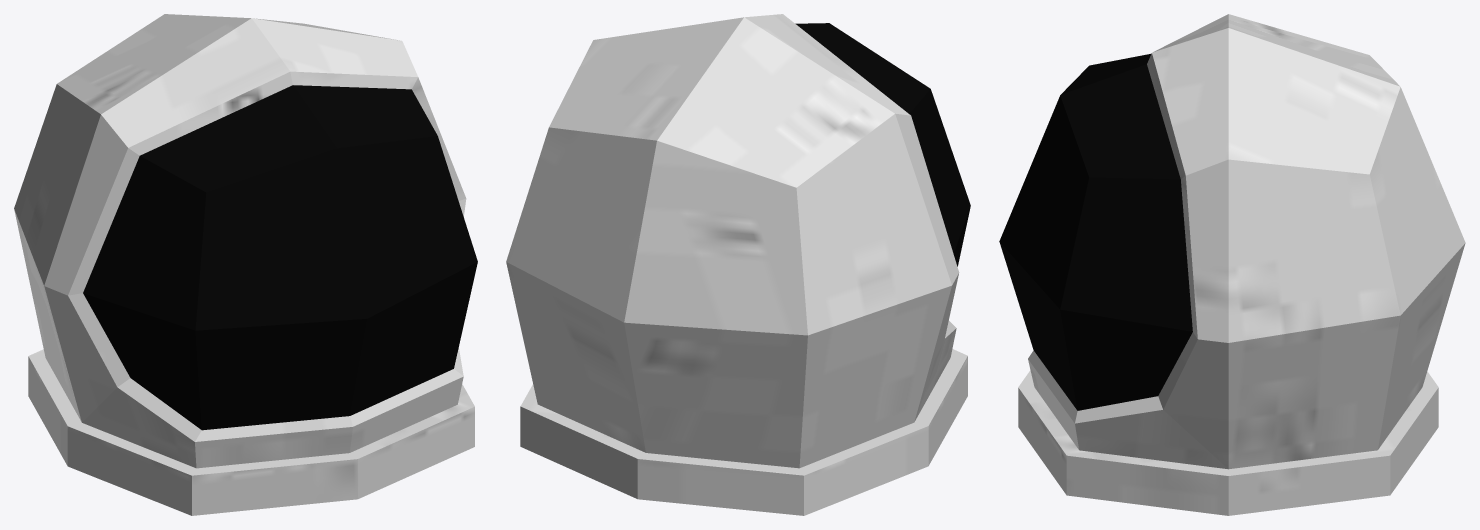
File: MSH_Helmet.fbx
3 views of the same model, side by side, from view 1: azimuth 30°, elevation 25°; view 2: azimuth 150°, elevation 25°; view 3: azimuth 270°, elevation 25° (orthographic).
Visible parts, largest first — view 1: Cube; view 2: Cube; view 3: Cube.
Boxes of the visible parts, x1,y1,x2,y2 form: Cube: (14, 14, 477, 515); Cube: (506, 14, 970, 515); Cube: (999, 14, 1465, 515).
Size of the model in its own units: 41.98 by 38.99 by 41.27.
2 materials, 2 textured.
